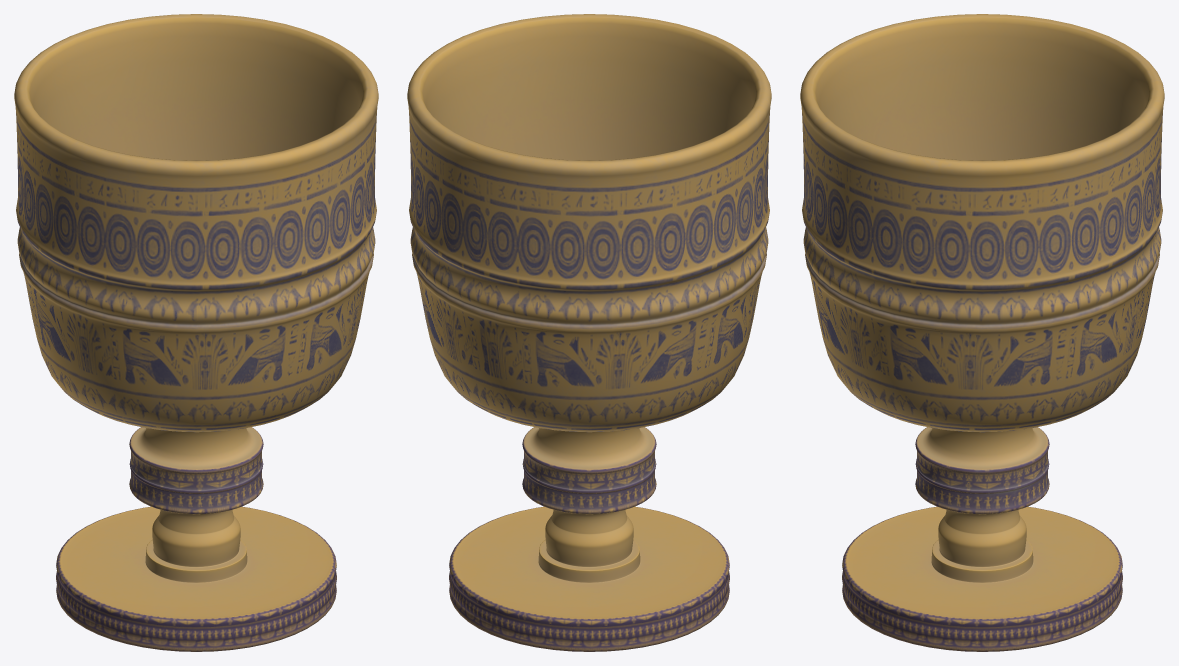
The model's file is egyptian_golden_wine_cup.glb.
The picture shows the model from 3 angles, left to right: view 1: azimuth 30°, elevation 25°; view 2: azimuth 150°, elevation 25°; view 3: azimuth 270°, elevation 25°; orthographic projection.
Parts seen in each view (by area): view 1: Mug_2; view 2: Mug_2; view 3: Mug_2.
Part boxes in pixels (box(x1,y1,x2,y2)): Mug_2: box(14, 14, 378, 651); Mug_2: box(407, 14, 771, 651); Mug_2: box(800, 14, 1164, 651).
Bounding box in the file's own units: 0.1035 × 0.1584 × 0.1035.
1 material, 1 textured.
